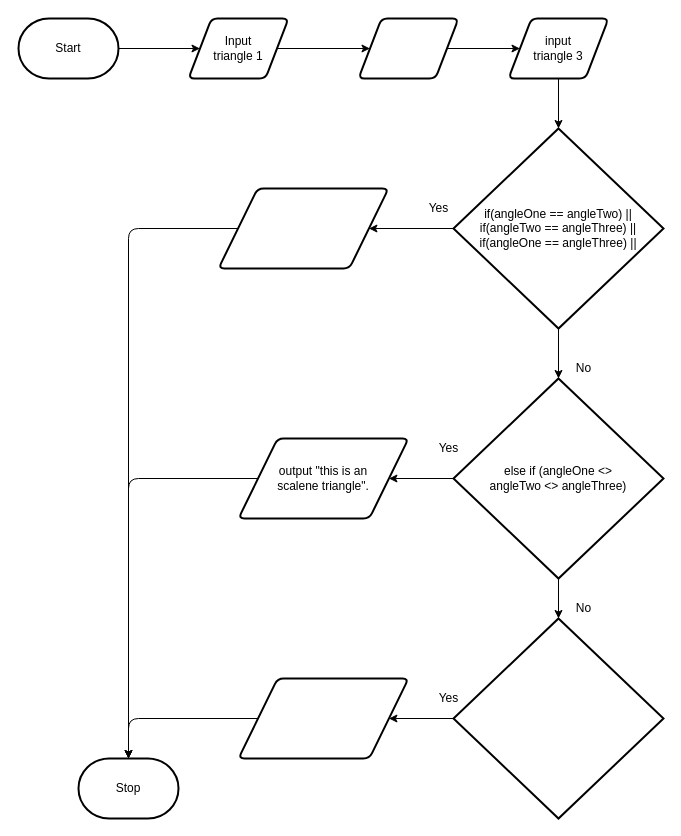
This 681x836 diagram has some shape labels left out. The shapes that lost their labels are listed below. From the top down, each one's centre as x and y in pixels, then its label:
[408,48]: input triangle 2
[303,228]: output "this is an isosceles triangle".
[323,718]: output "this is an equilateral triangle".
[558,718]: else (angleOne == angleTwo == angleThree)
